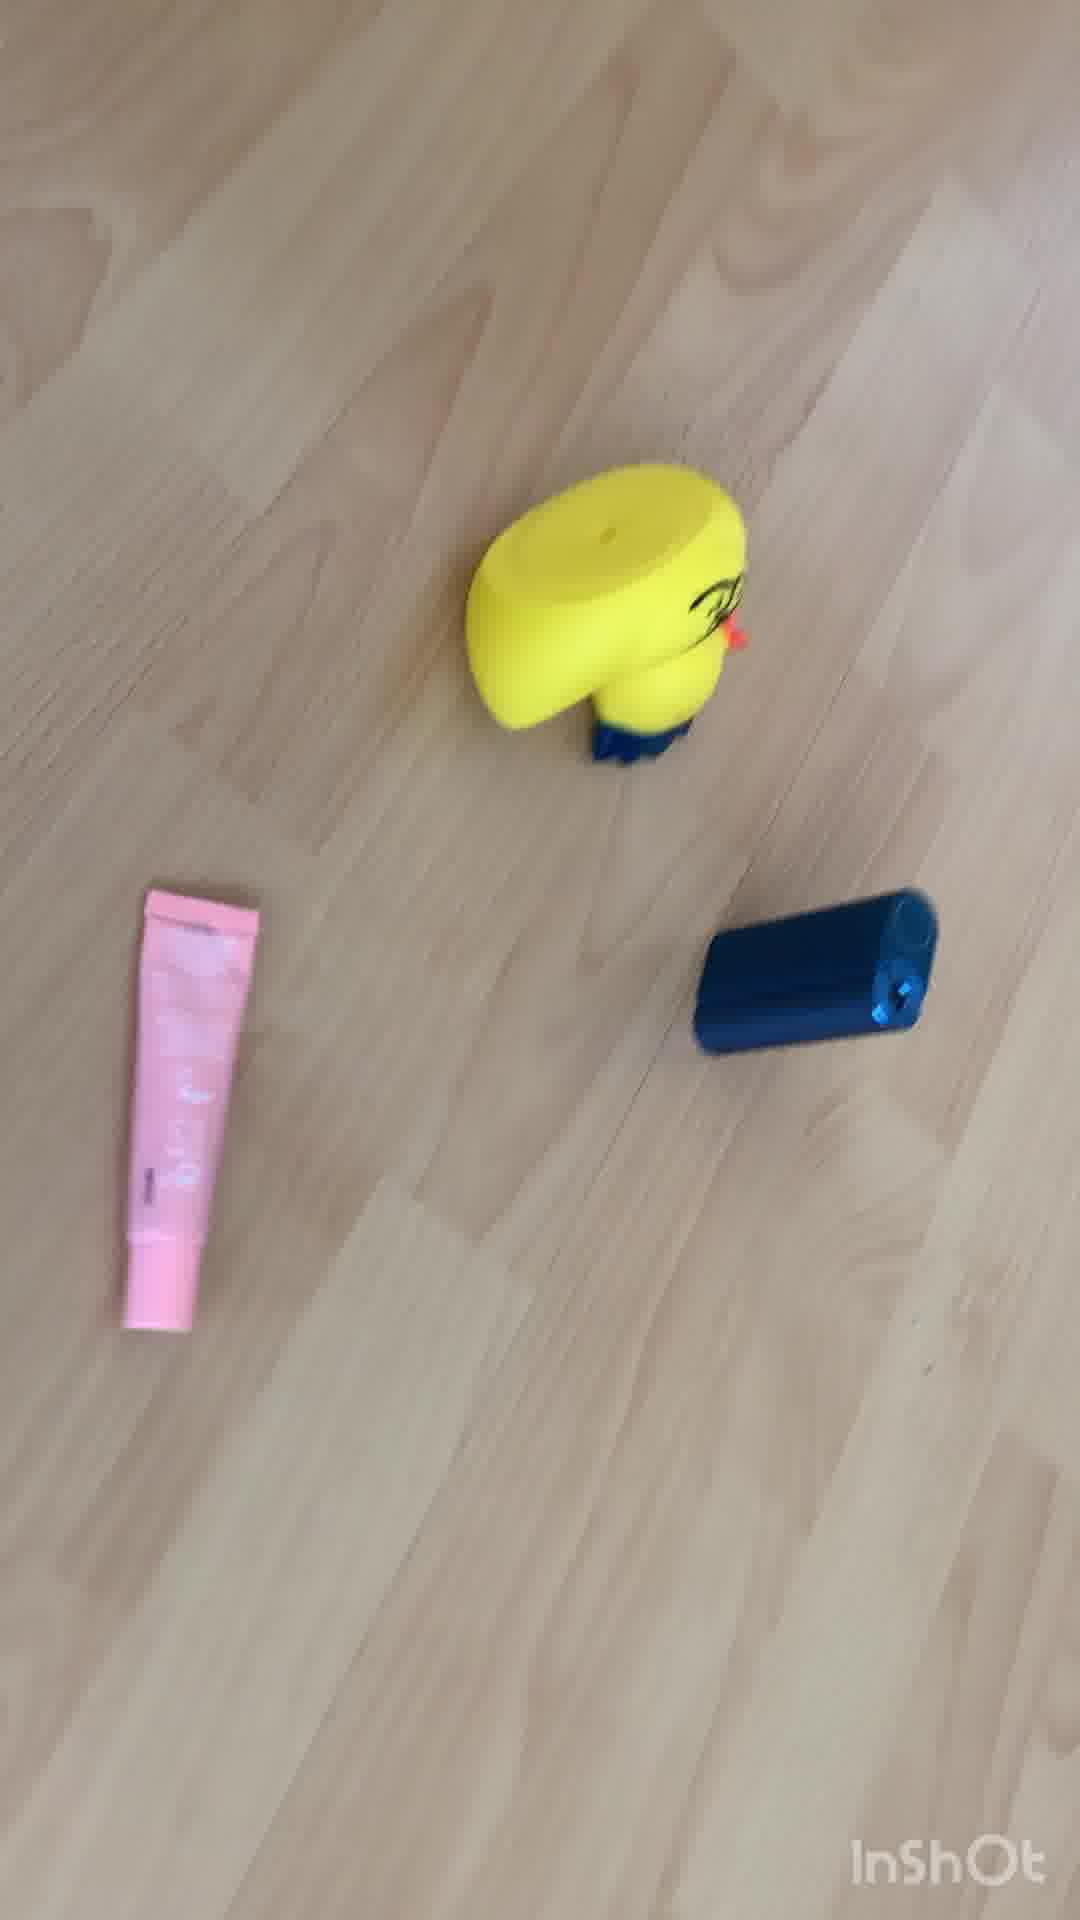duck: (454, 459, 756, 781)
glo: (684, 893, 942, 1062)
lip balm: (103, 887, 277, 1346)
